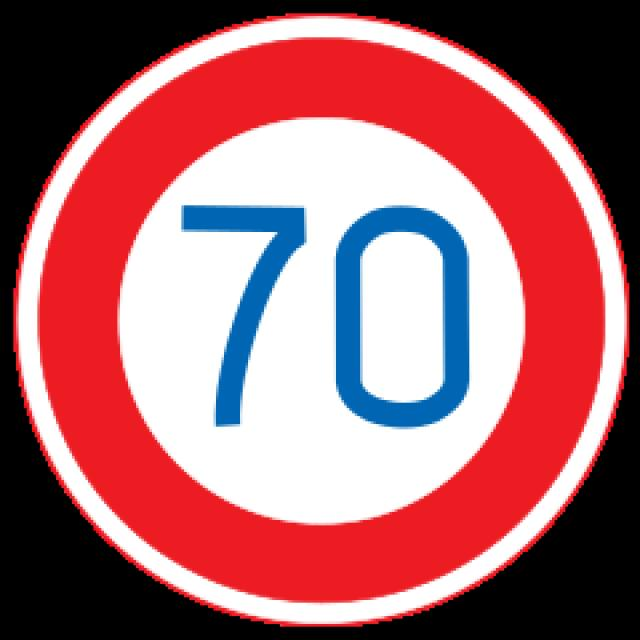Speed Limit -70-: (134, 162, 518, 472)
